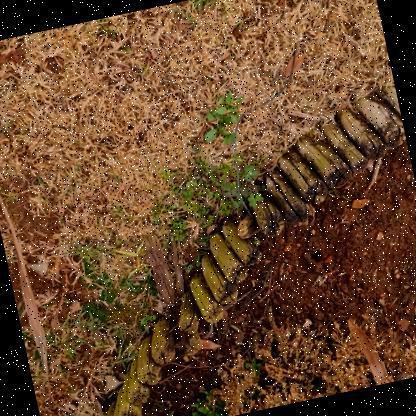Weeds: (196, 89, 252, 150), (218, 162, 268, 216)
